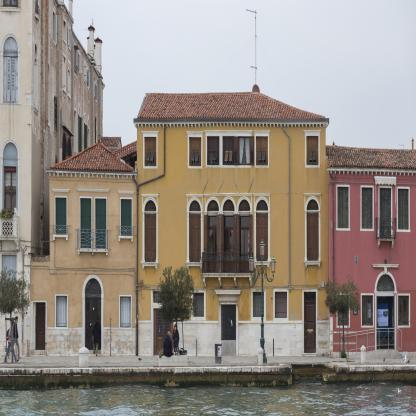Balcony: (201, 252, 254, 278)
Building Outline: (30, 84, 416, 357)
Cornice: (204, 193, 253, 197), (77, 188, 110, 193), (215, 289, 241, 295), (204, 130, 253, 133), (372, 264, 399, 268), (52, 189, 70, 193), (253, 193, 271, 197), (254, 130, 271, 134), (141, 194, 160, 197), (185, 194, 204, 197), (117, 191, 135, 194), (186, 131, 204, 134)
Deco: (81, 198, 92, 248)
Door: (153, 309, 174, 356), (377, 296, 395, 349), (85, 297, 101, 350), (221, 305, 236, 356), (304, 292, 316, 353), (34, 302, 46, 350), (239, 228, 250, 273), (207, 228, 218, 273), (223, 228, 234, 273)
Facade: (31, 84, 416, 356)
Floor: (49, 193, 329, 272)
Floor Slab: (30, 272, 329, 278), (49, 187, 329, 193), (329, 258, 416, 264)
Ground Floor: (30, 278, 329, 356), (329, 264, 416, 358)
Molding: (134, 121, 328, 128), (49, 170, 137, 180), (330, 168, 416, 176)
Roof: (137, 91, 325, 118), (50, 140, 135, 172), (326, 145, 416, 169)
Sill: (77, 249, 108, 256), (140, 262, 159, 271), (185, 262, 204, 271), (303, 261, 322, 269), (252, 261, 271, 269), (118, 235, 134, 242), (53, 234, 69, 241)
Top Floor: (137, 122, 326, 194), (329, 170, 416, 264)
Window: (379, 188, 391, 238), (307, 212, 319, 261), (145, 213, 157, 262), (189, 213, 201, 262), (256, 212, 268, 261), (95, 198, 106, 248), (337, 187, 349, 229), (398, 189, 409, 230), (362, 188, 373, 229), (56, 198, 67, 235), (121, 199, 132, 236), (307, 136, 319, 165), (145, 137, 157, 166), (189, 137, 201, 166), (207, 137, 219, 166), (238, 137, 250, 166), (256, 137, 268, 166), (56, 296, 67, 327), (338, 295, 349, 326), (398, 295, 409, 326), (362, 295, 373, 326), (223, 137, 235, 165), (120, 297, 131, 327), (376, 274, 395, 291), (85, 278, 102, 297), (275, 292, 287, 318), (253, 292, 264, 317), (193, 293, 204, 317), (153, 291, 173, 303), (239, 215, 250, 228), (207, 215, 218, 228), (223, 215, 234, 228), (189, 200, 201, 211), (207, 200, 219, 211), (256, 200, 268, 210), (223, 200, 235, 210), (239, 200, 250, 210)
object: (141, 131, 159, 134)
